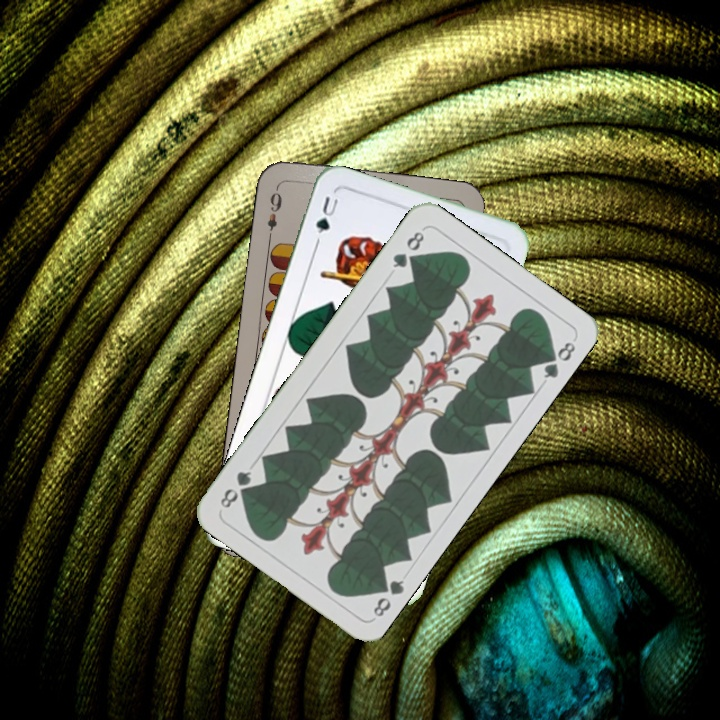E9: (263, 183, 285, 242)
G8: (369, 573, 407, 620), (388, 227, 427, 271)
GU: (311, 192, 342, 246)
